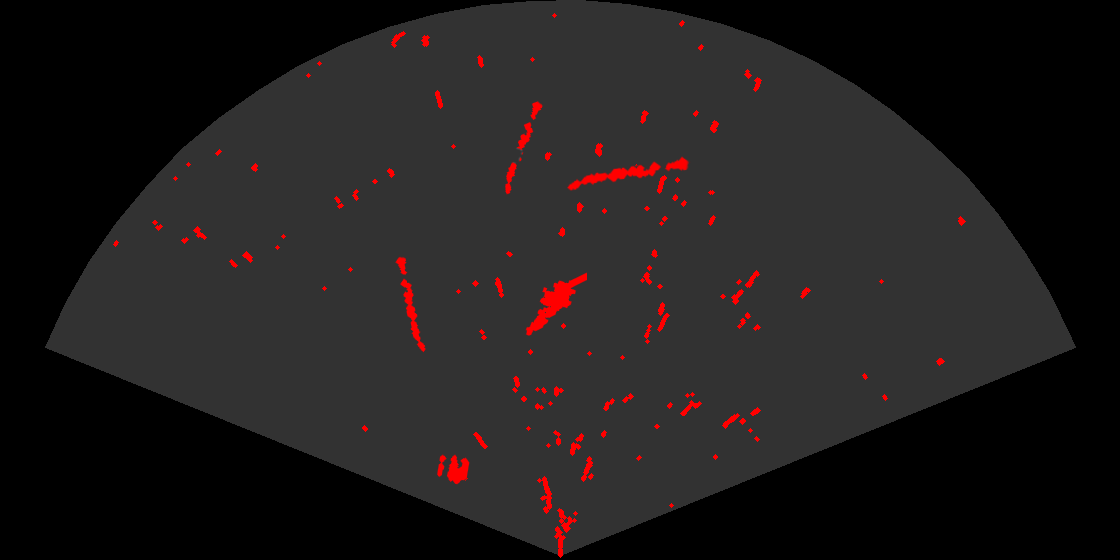ball: (436, 453, 471, 486)
chain: (566, 155, 691, 192), (503, 100, 544, 196), (394, 254, 427, 354)
frogman: (524, 271, 587, 337)
